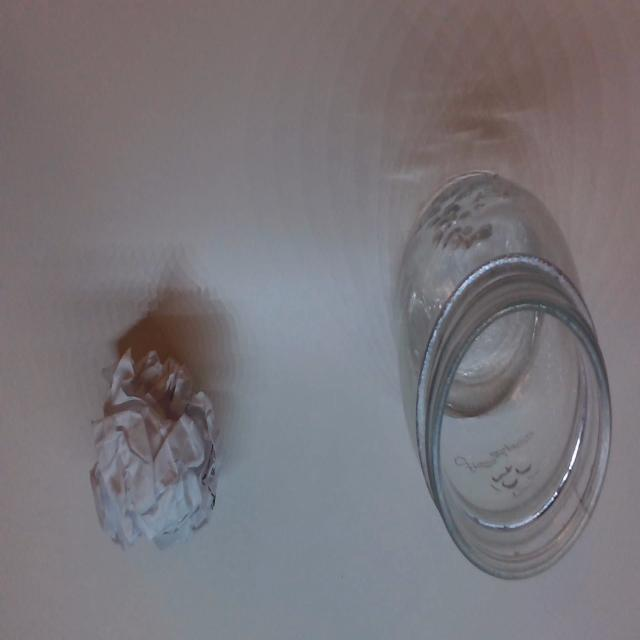Glass: (396, 166, 614, 584)
Paper: (93, 342, 215, 567)
